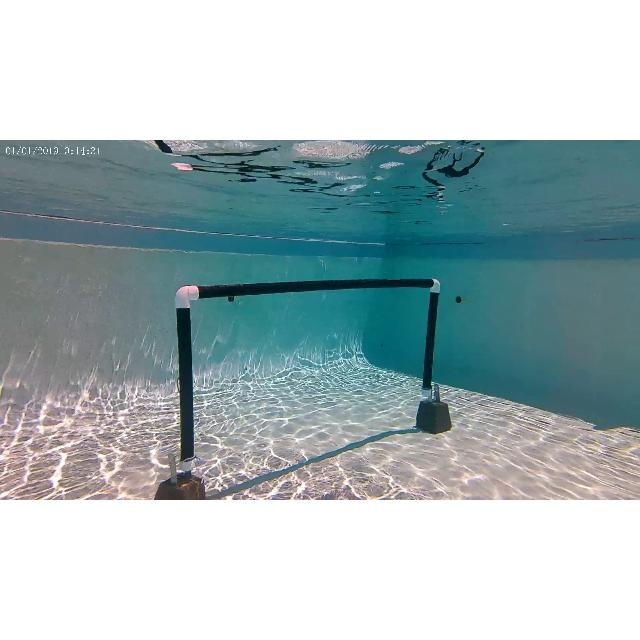prequal gate: (174, 280, 442, 472)
prequal gate leg l: (166, 278, 214, 500)
prequal gate leg r: (414, 274, 458, 438)
